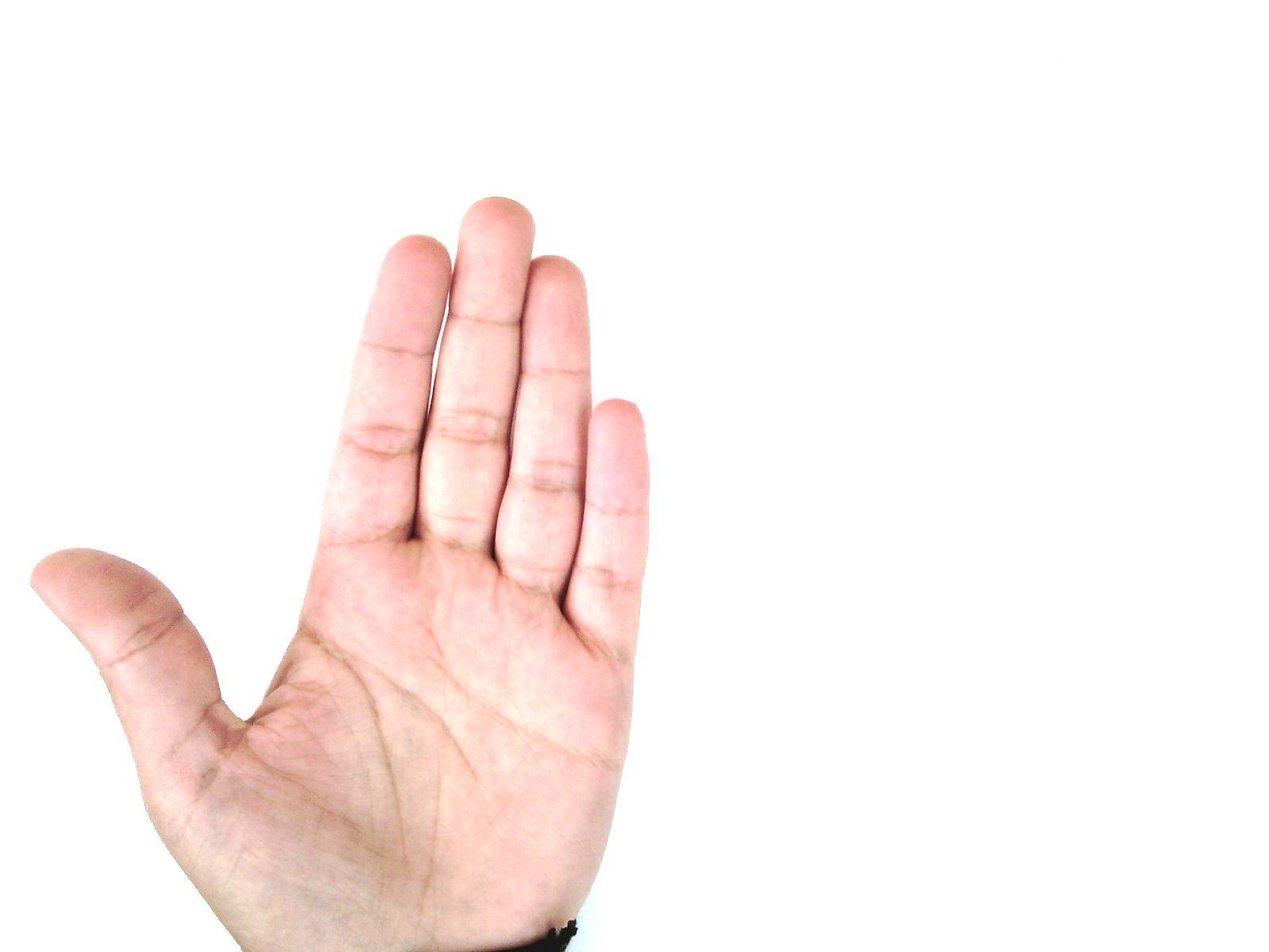open_palm: (29, 194, 654, 951)
